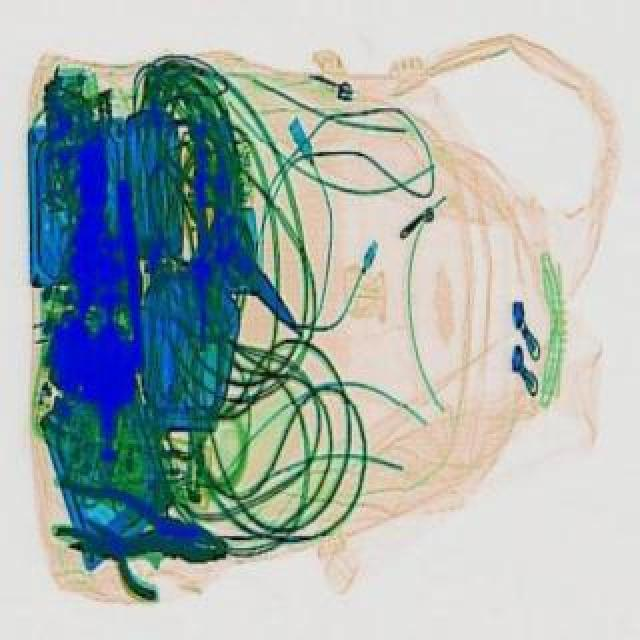wrench: (44, 470, 240, 580)
